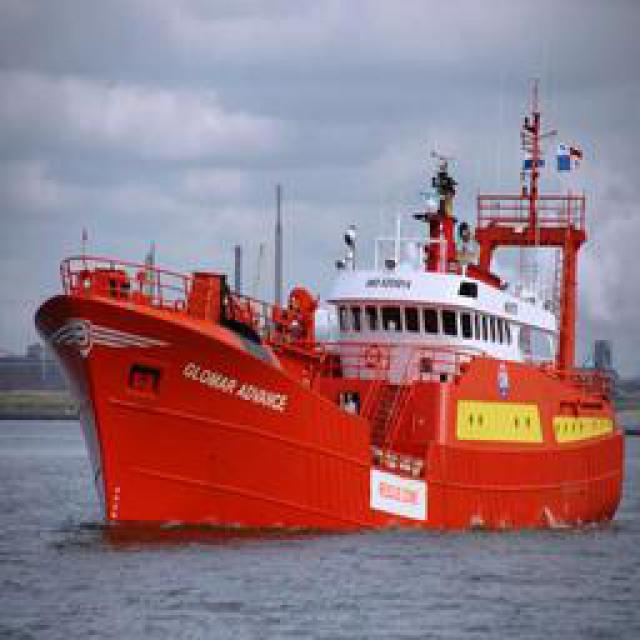Ship: (41, 152, 621, 535)
